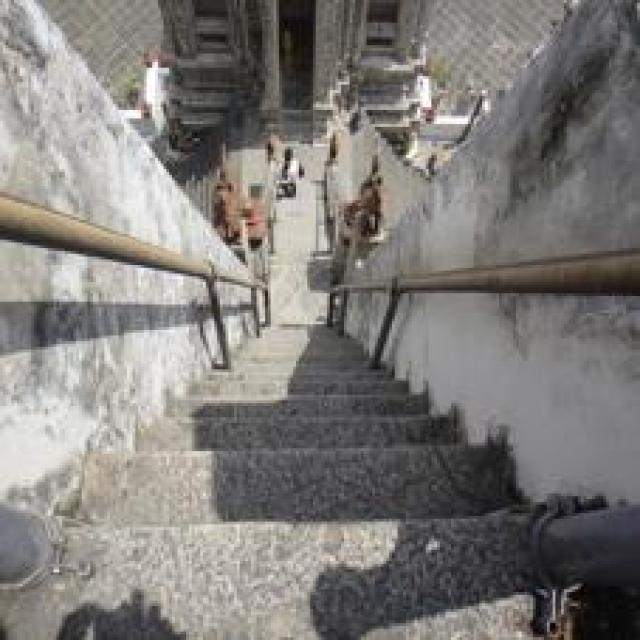stairs: (154, 0, 260, 144)
